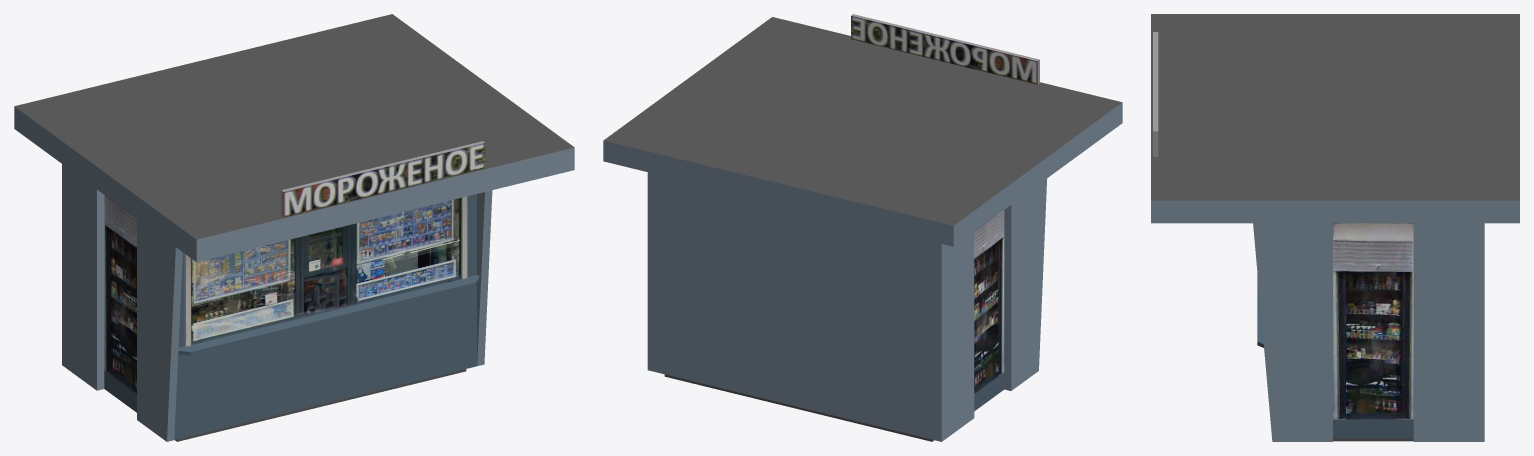
The model's file is Ice Cream Stall.fbx.
3 views of the same model, side by side, from view 1: azimuth 30°, elevation 25°; view 2: azimuth 150°, elevation 25°; view 3: azimuth 270°, elevation 25° (orthographic). The views are drawn at different scales.
Parts seen in each view (by area): view 1: Ice Cream Stall; view 2: Ice Cream Stall; view 3: Ice Cream Stall.
Part boxes in pixels (x1,y1,x2,y2): Ice Cream Stall: (14,14,574,441); Ice Cream Stall: (603,14,1122,441); Ice Cream Stall: (1151,14,1519,441).
Bounding box in the file's own units: 437 × 365 × 315.
Materials: 8 (3 with a texture image).
